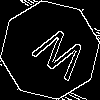W: (25, 25, 90, 90)
